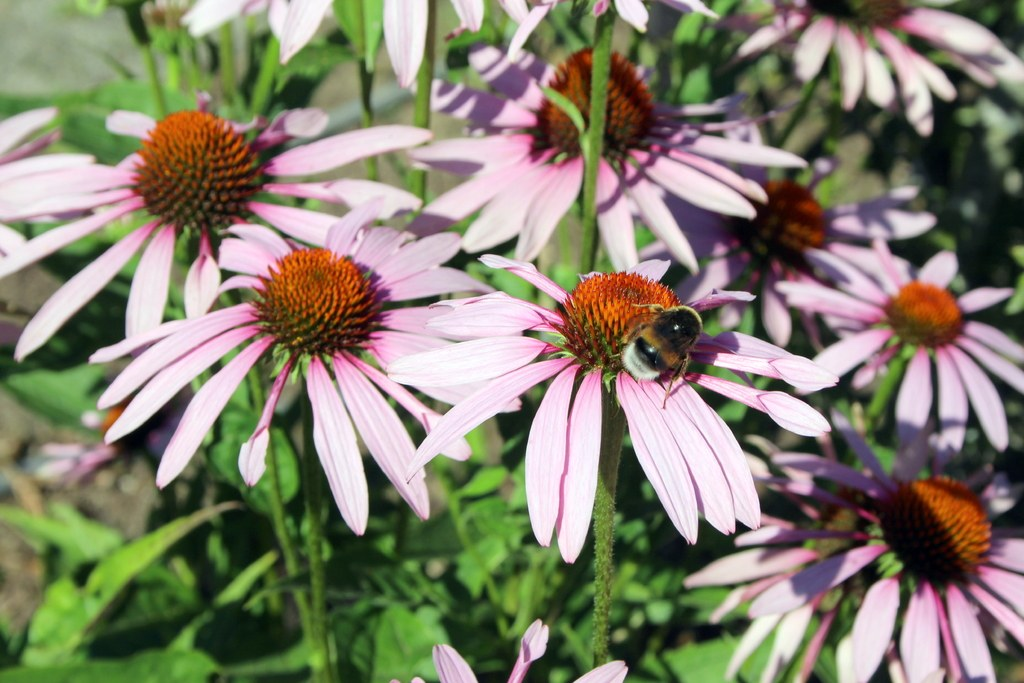bee: (626, 284, 724, 393)
insect: (0, 0, 1023, 682), (396, 236, 825, 561)
